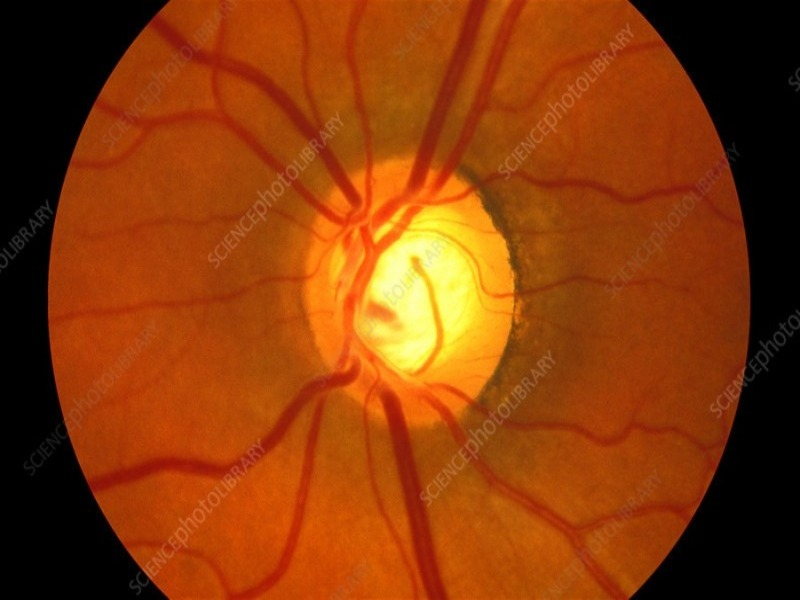Optic Cup: (359, 205, 474, 370)
Optic Disc: (305, 154, 515, 428)
